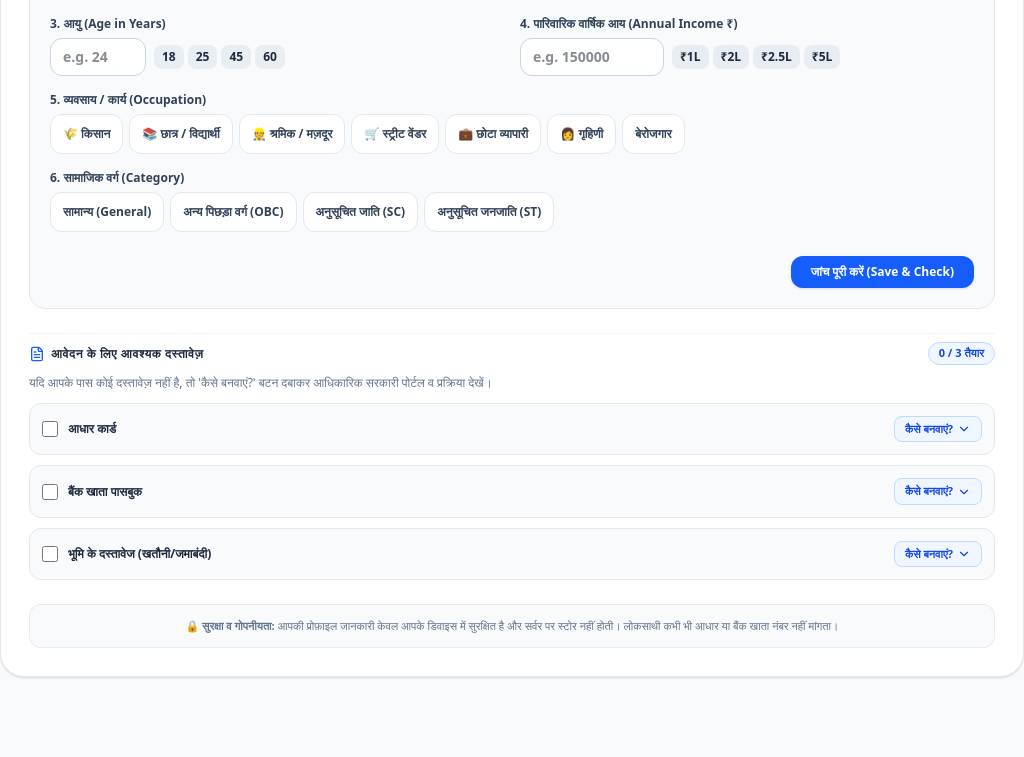
Test: EligibilityChecker Component (components/EligibilityChecker.tsx) › expands step-by-step 'Kaise Banwayein' guide when user taps How to Get It
(page scrolled)
Note: Expand first document guide (Aadhaar or Khatauni)
Click the button "कैसे बनवाएं?" in the row of "आधार कार्ड".
click(938, 429)  # box [894,416,982,442]
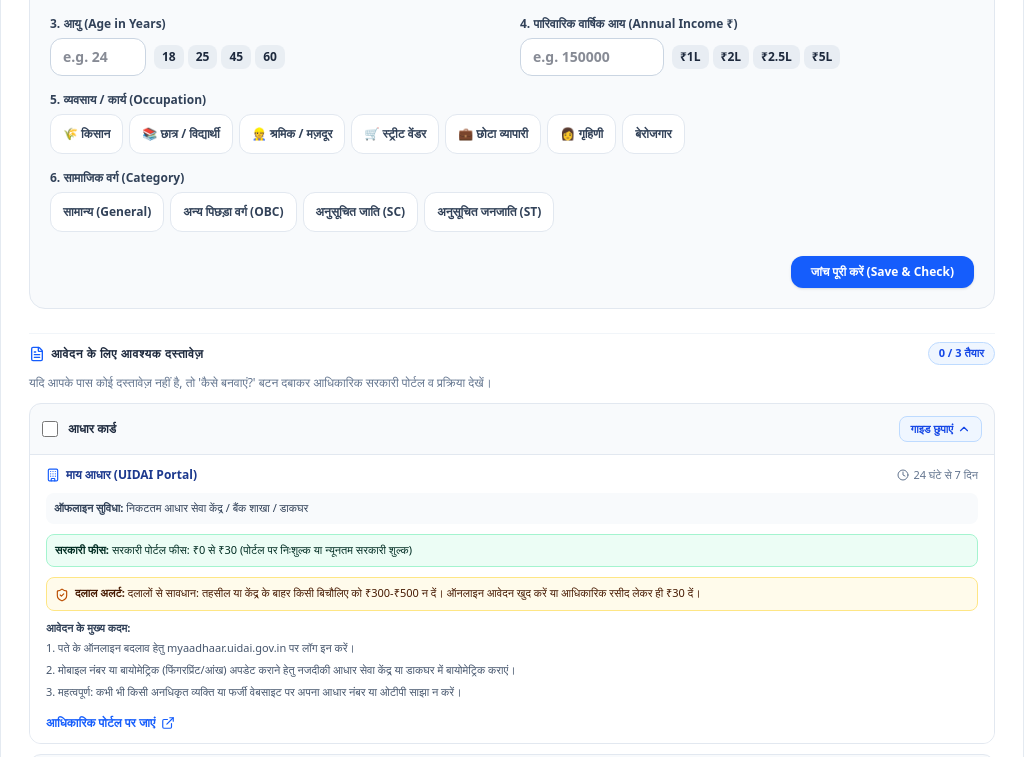
Check: the text "आवेदन के मुख्य कदम:" is shown, box [46,620,130,635]
